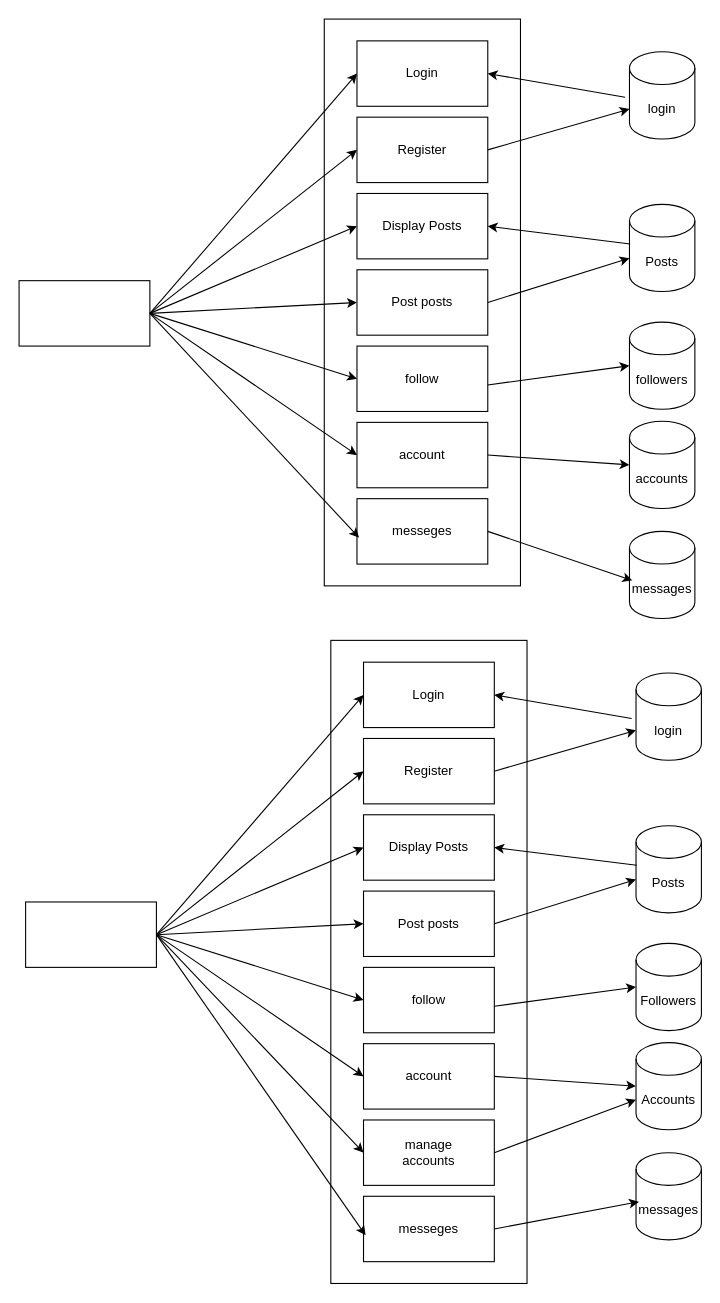
The diagram is 720 pixels wide and 1303 high, and some of its shapes have lost their labels. Here are the shapes that lost their labels. From the top down, the centre of each, then its label:
At [84,313]: "User".
At [90,934]: "Modderators".
